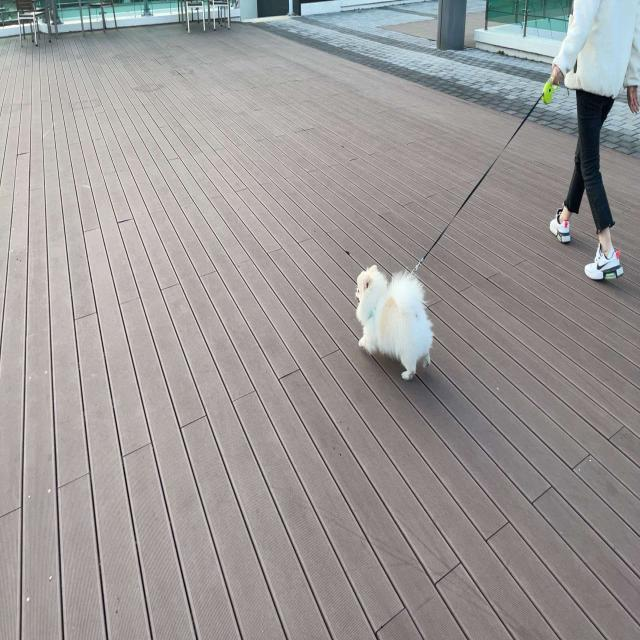Leashed_Dog: (354, 38, 603, 382)
